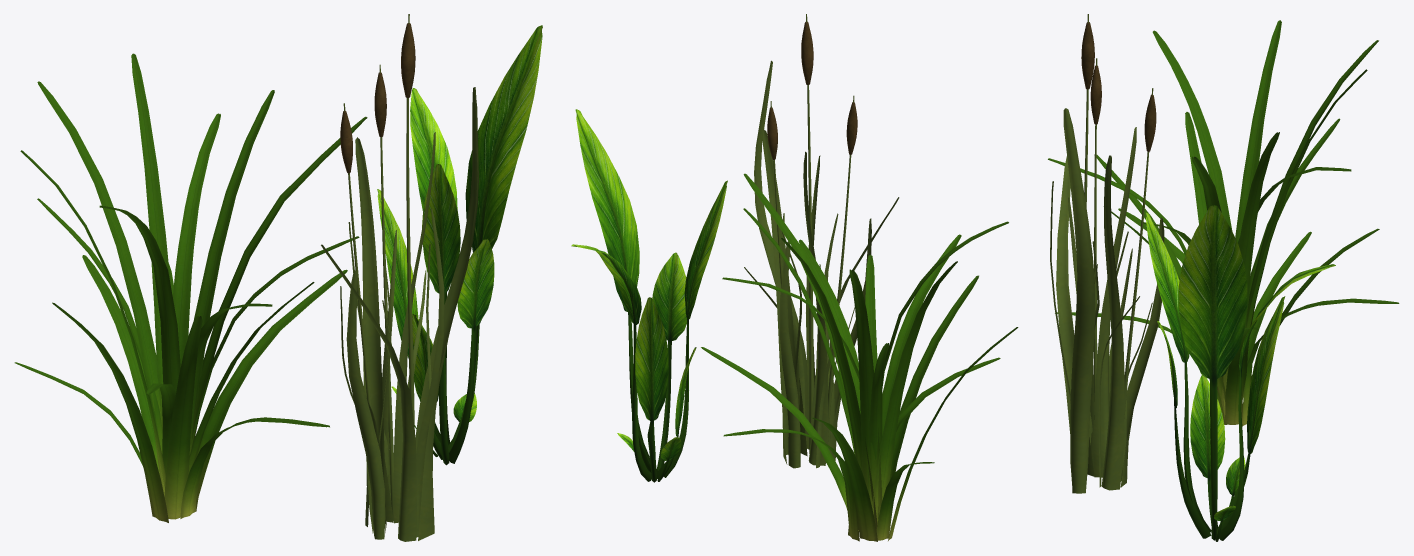
File: underwater_plant_pack.glb
The picture shows the model from 3 angles, left to right: view 1: azimuth 30°, elevation 25°; view 2: azimuth 150°, elevation 25°; view 3: azimuth 270°, elevation 25°; orthographic projection. The views are drawn at different scales.
Visible parts, largest first — view 1: plant_1, plant_3, plant_2; view 2: plant_1, plant_2, plant_3; view 3: plant_3, plant_2, plant_1.
Part boxes in pixels (box(x1,y1,x2,y2)): plant_1: box(14, 53, 367, 522); plant_3: box(321, 14, 478, 541); plant_2: box(377, 25, 542, 465); plant_1: box(701, 173, 1018, 541); plant_2: box(571, 109, 727, 482); plant_3: box(744, 14, 899, 468); plant_3: box(1050, 14, 1164, 493); plant_2: box(1145, 205, 1335, 541); plant_1: box(1048, 20, 1399, 426).
Size of the model in its own units: 17.43 by 17.26 by 11.53.
4 materials, 4 textured.
